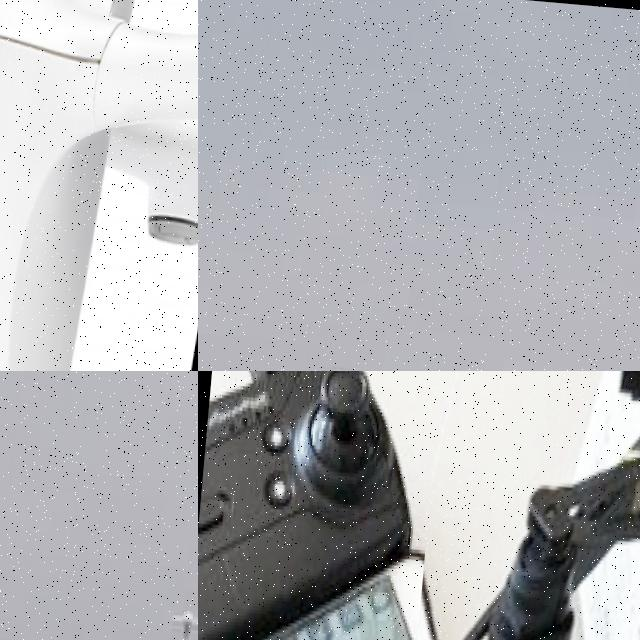drone: (0, 0, 198, 371), (394, 371, 640, 640)
